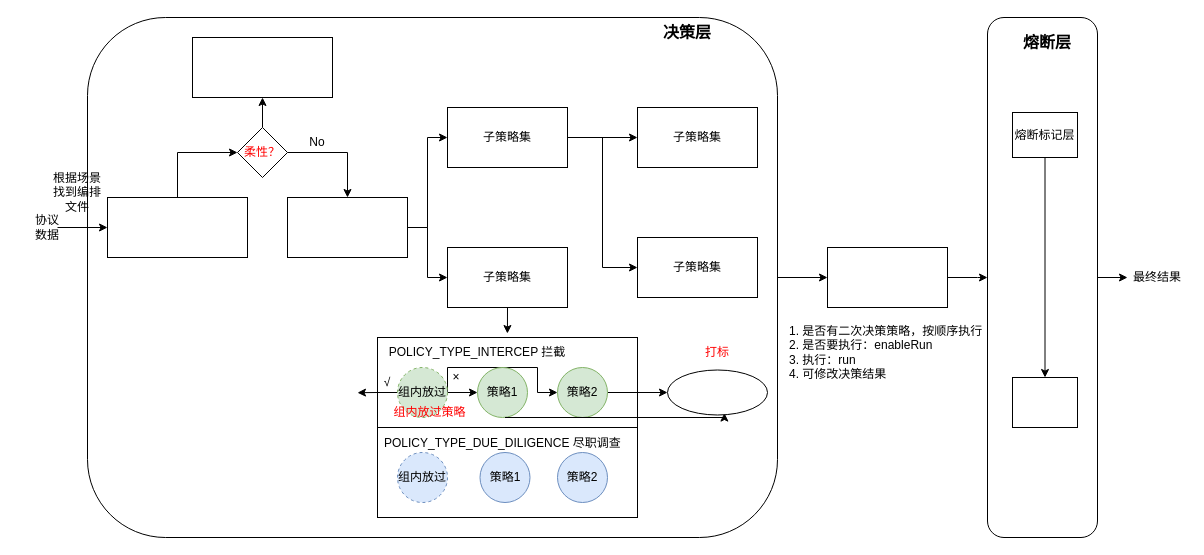
Some shapes in this 1204 by 555 pixel diagram are drawn without their labels. The shapes that lost their labels are listed below. From the top down, each one's centre as x and y in pixels, then its label:
the point at 262,67: 直接返回结果，标记触发柔性
the point at 177,227: LayerGroup 如decision, backup层组等
the point at 347,227: 策略集 如管控策略集、反洗钱与风控策略集等
the point at 887,277: 二次决策层
the point at 717,392: markReason? 修改为default ok
the point at 1045,402: 熔断执行层
